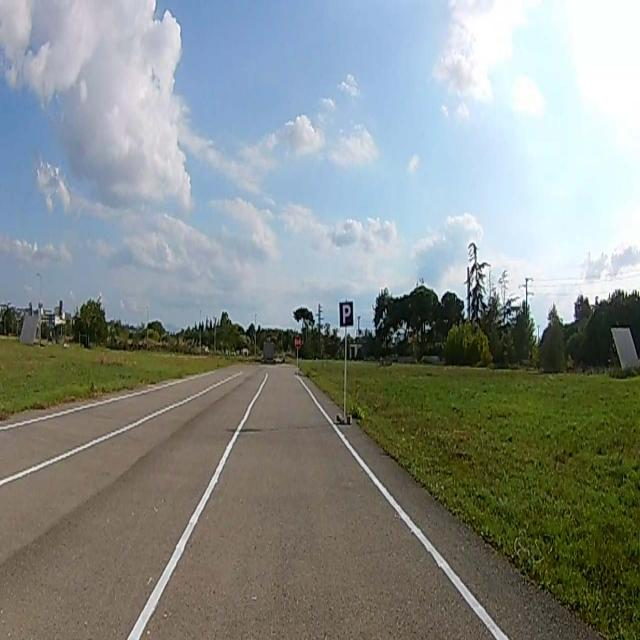park: (339, 302, 352, 326)
